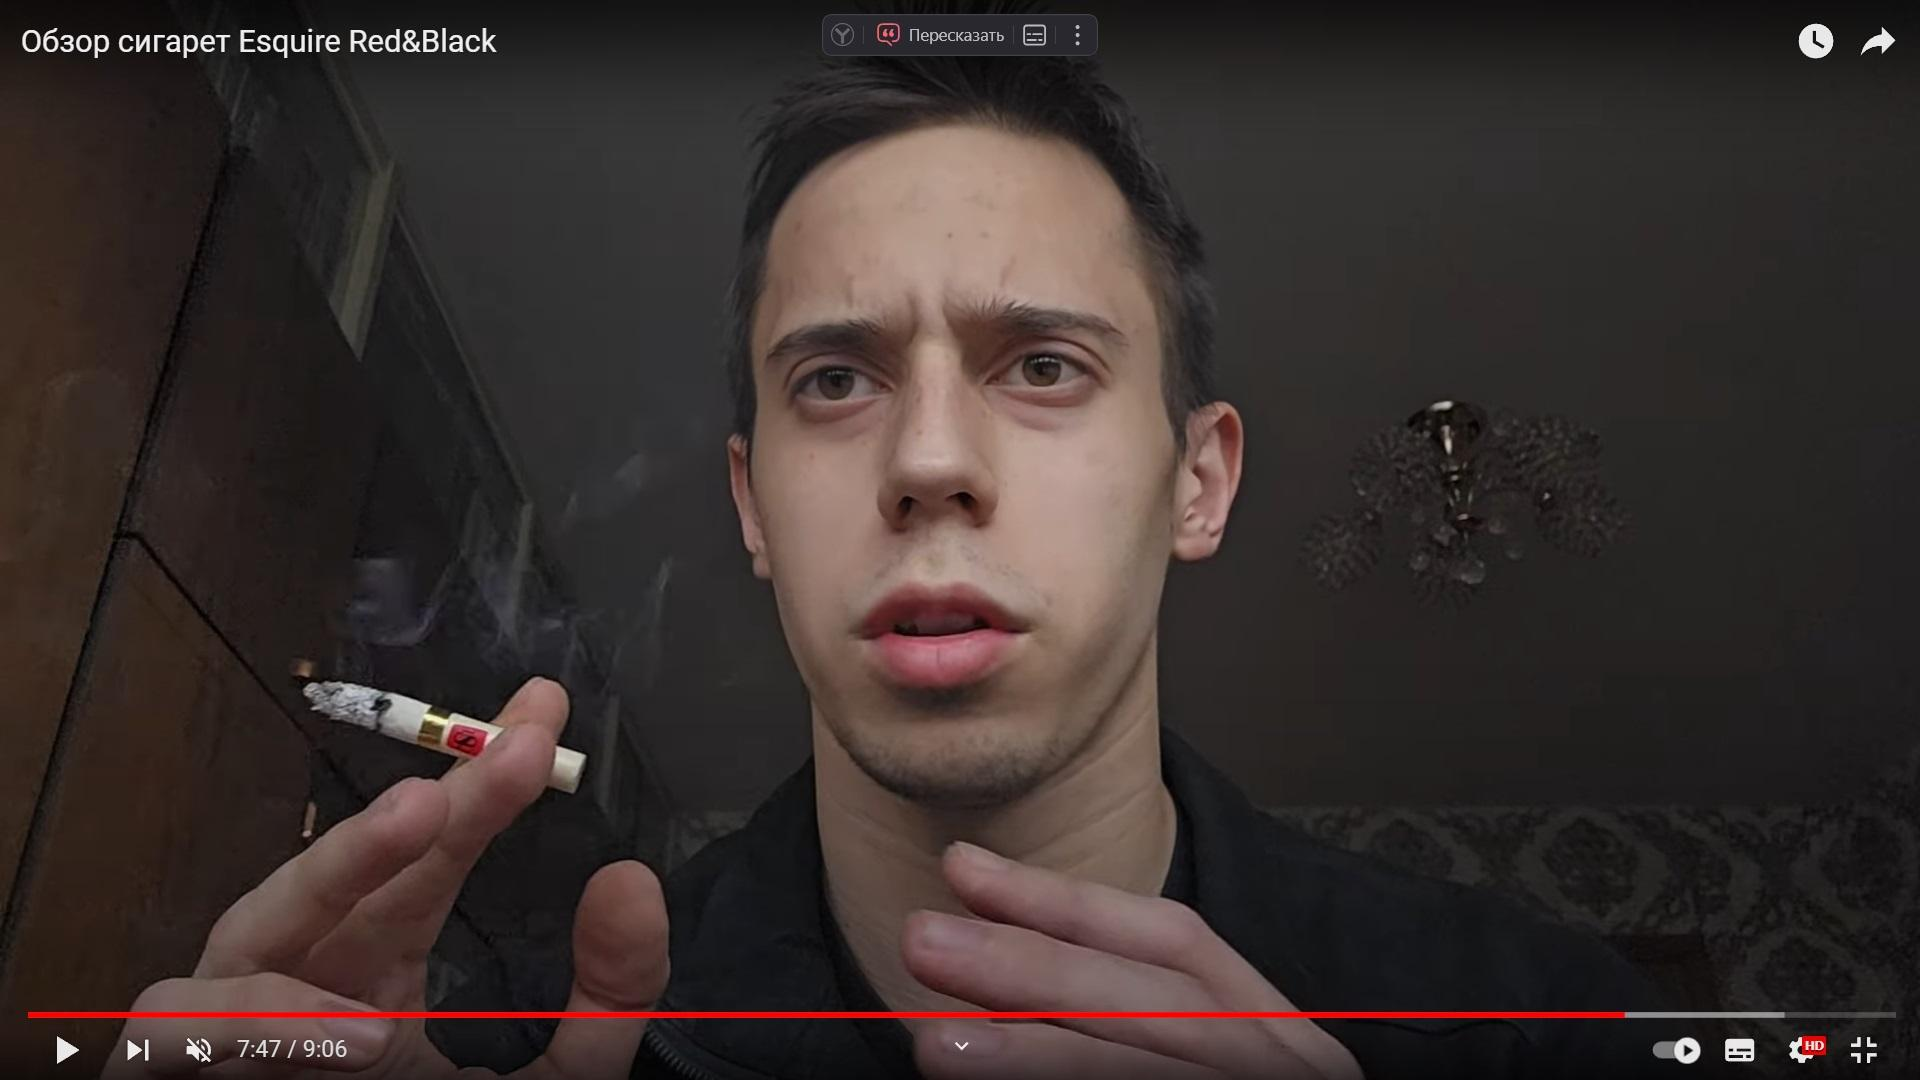cigarette: (307, 683, 588, 795)
